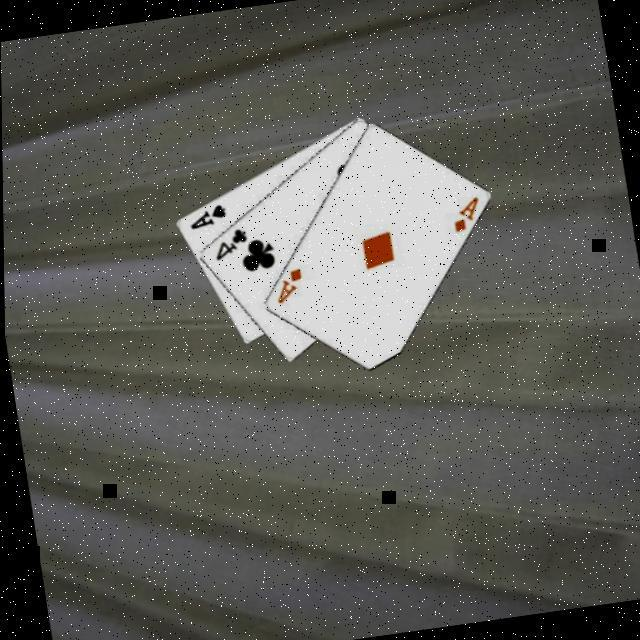4C: (206, 224, 249, 263)
AD: (266, 264, 306, 307), (444, 193, 484, 236)
AS: (181, 200, 227, 232)
